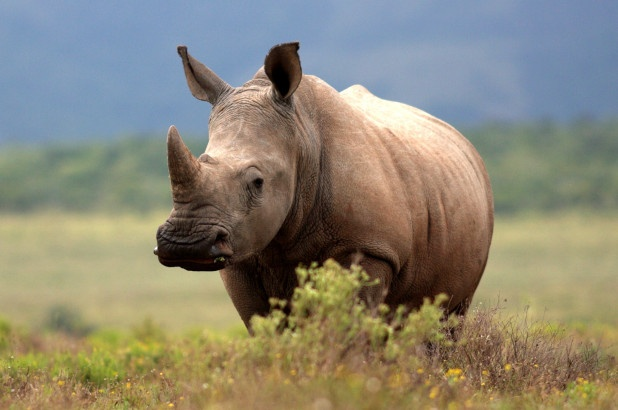rhino: (153, 40, 496, 350)
